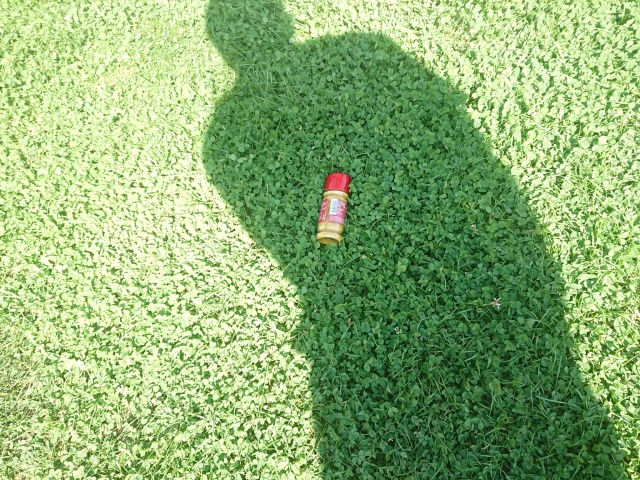Kotanyi Curry Spices Mix 70g: (314, 171, 353, 247)
